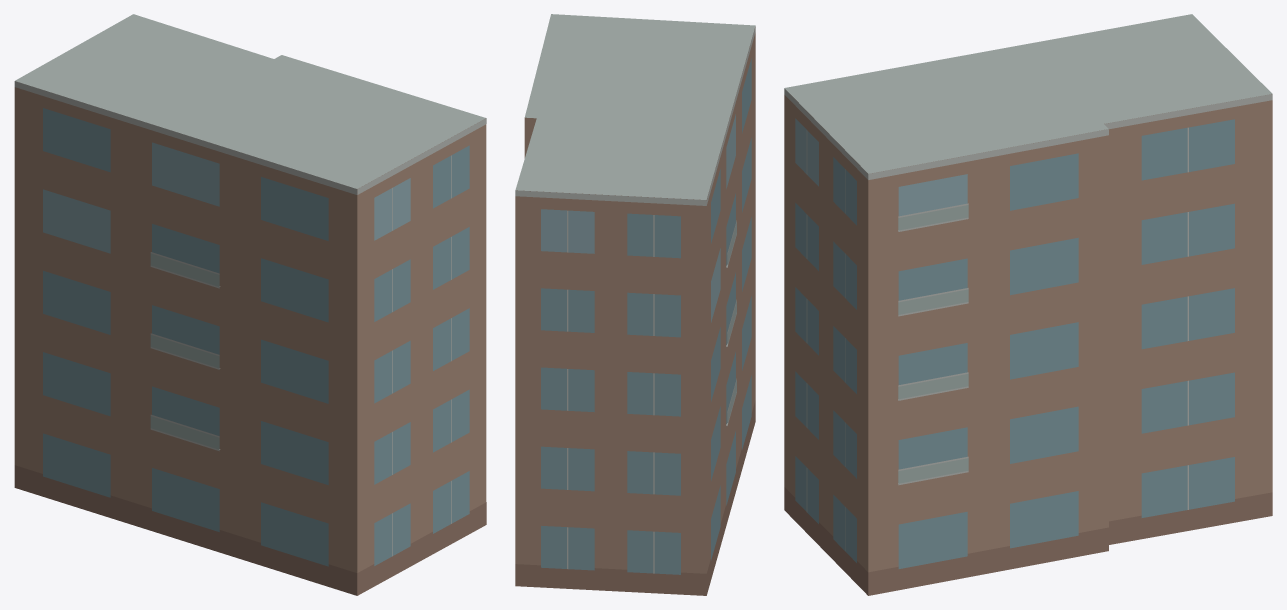
The model's file is survey-upis-32971264.glb.
3 renders of one model, left to right at view 1: azimuth 30°, elevation 25°; view 2: azimuth 150°, elevation 25°; view 3: azimuth 270°, elevation 25°, orthographic. The views are drawn at different scales.
Parts seen in each view (by area): view 1: survey-upis-32971264.tmp; view 2: survey-upis-32971264.tmp; view 3: survey-upis-32971264.tmp.
Boxes of the visible parts, left/top/right/bottom form: survey-upis-32971264.tmp: left=14, top=14, right=486, bottom=595; survey-upis-32971264.tmp: left=515, top=14, right=755, bottom=595; survey-upis-32971264.tmp: left=784, top=14, right=1272, bottom=595.
Bounding box in the file's own units: 13.25 × 16.3 × 17.1.
